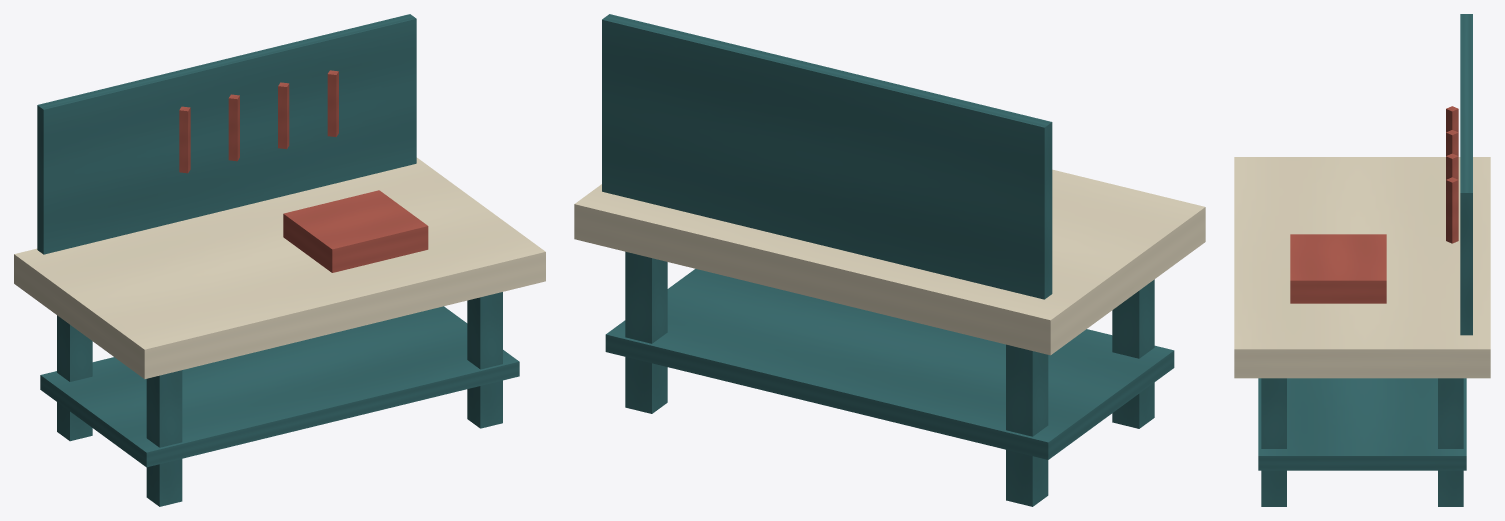
The model's file is atlas100-s038-a06.lod2.glb.
The picture shows the model from 3 angles, left to right: view 1: azimuth 30°, elevation 25°; view 2: azimuth 150°, elevation 25°; view 3: azimuth 270°, elevation 25°; orthographic projection. The views are drawn at different scales.
Parts seen in each view (by area): view 1: atlas100-s038-a06:part-004, atlas100-s038-a06:part-006, atlas100-s038-a06:part-005, atlas100-s038-a06:part-012, atlas100-s038-a06:part-001, atlas100-s038-a06:part-003, atlas100-s038-a06:part-000, atlas100-s038-a06:part-008, atlas100-s038-a06:part-010, atlas100-s038-a06:part-009, atlas100-s038-a06:part-011; view 2: atlas100-s038-a06:part-006, atlas100-s038-a06:part-005, atlas100-s038-a06:part-004, atlas100-s038-a06:part-002, atlas100-s038-a06:part-000, atlas100-s038-a06:part-001; view 3: atlas100-s038-a06:part-004, atlas100-s038-a06:part-005, atlas100-s038-a06:part-012, atlas100-s038-a06:part-006, atlas100-s038-a06:part-002, atlas100-s038-a06:part-003, atlas100-s038-a06:part-011, atlas100-s038-a06:part-010, atlas100-s038-a06:part-008, atlas100-s038-a06:part-009.
Part boxes in pixels (box(x1,y1,x2,y2)): atlas100-s038-a06:part-004: box(14, 157, 545, 379); atlas100-s038-a06:part-006: box(37, 14, 416, 254); atlas100-s038-a06:part-005: box(40, 306, 519, 467); atlas100-s038-a06:part-012: box(283, 190, 428, 272); atlas100-s038-a06:part-001: box(146, 370, 182, 506); atlas100-s038-a06:part-003: box(467, 292, 502, 428); atlas100-s038-a06:part-000: box(57, 315, 92, 441); atlas100-s038-a06:part-008: box(179, 106, 190, 173); atlas100-s038-a06:part-010: box(278, 82, 289, 149); atlas100-s038-a06:part-009: box(228, 94, 239, 161); atlas100-s038-a06:part-011: box(327, 70, 338, 136); atlas100-s038-a06:part-006: box(602, 14, 1052, 299); atlas100-s038-a06:part-005: box(605, 269, 1174, 459); atlas100-s038-a06:part-004: box(574, 169, 1205, 355); atlas100-s038-a06:part-002: box(625, 251, 667, 413); atlas100-s038-a06:part-000: box(1006, 344, 1048, 506); atlas100-s038-a06:part-001: box(1112, 279, 1154, 428); atlas100-s038-a06:part-004: box(1234, 157, 1490, 378); atlas100-s038-a06:part-005: box(1258, 378, 1466, 470); atlas100-s038-a06:part-012: box(1290, 234, 1386, 303); atlas100-s038-a06:part-006: box(1460, 14, 1472, 335); atlas100-s038-a06:part-002: box(1438, 378, 1463, 506); atlas100-s038-a06:part-003: box(1261, 378, 1286, 506); atlas100-s038-a06:part-011: box(1446, 177, 1458, 243); atlas100-s038-a06:part-010: box(1446, 153, 1458, 179); atlas100-s038-a06:part-008: box(1446, 106, 1458, 132); atlas100-s038-a06:part-009: box(1446, 130, 1458, 155).
Bounding box in the file's own units: 2.84 × 2.21 × 1.6.
3 materials, 3 textured.
